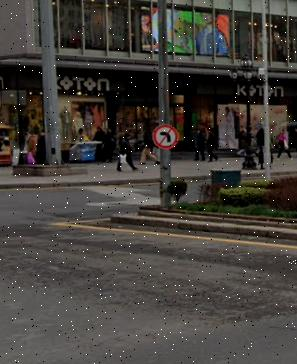leftturnsareforbidden: (154, 126, 177, 150)
